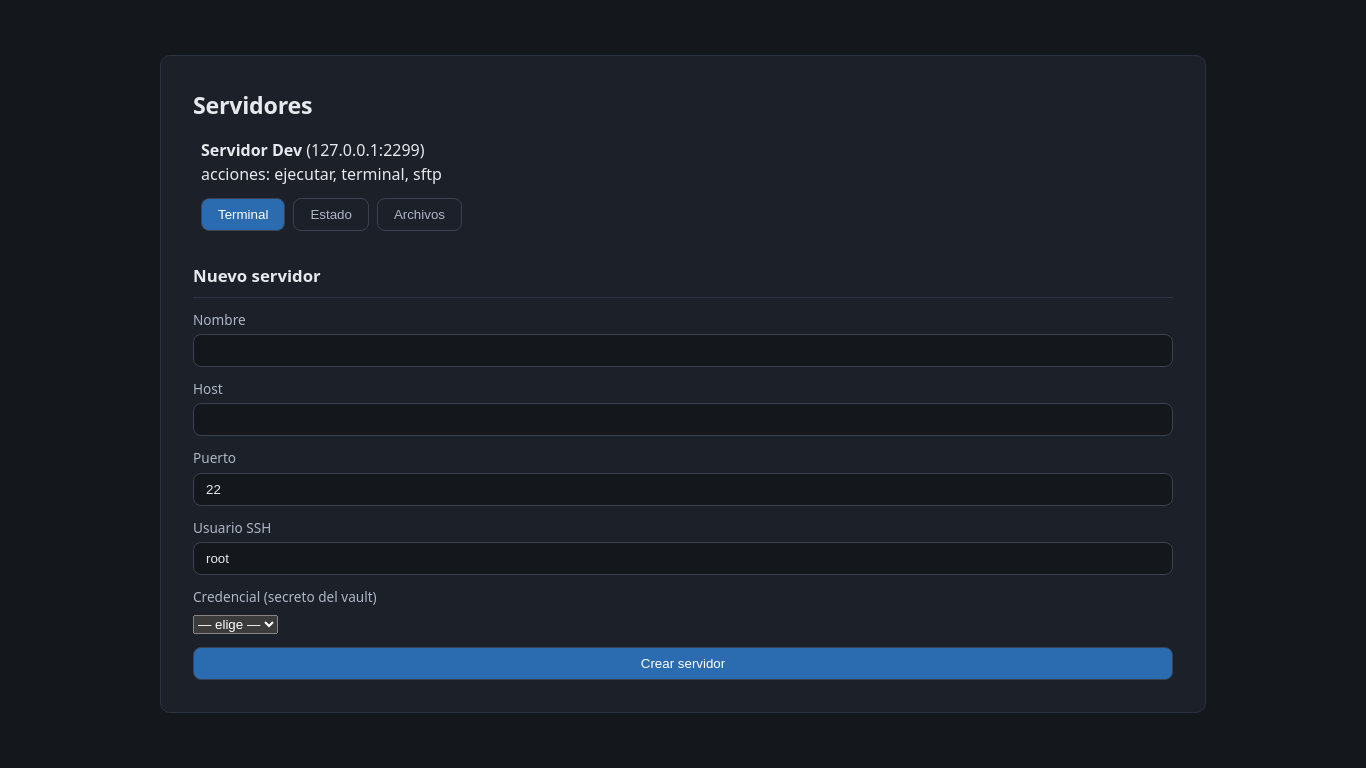
Test: VistaServidores (F4-6) › admin: crea un servidor con credencial del vault
Expected: the text "Servidor Dev" is shown, [201, 139, 302, 161]
Type "Nuevo" into the field labelled "Nombre" at [683, 350], box [193, 334, 1173, 367]
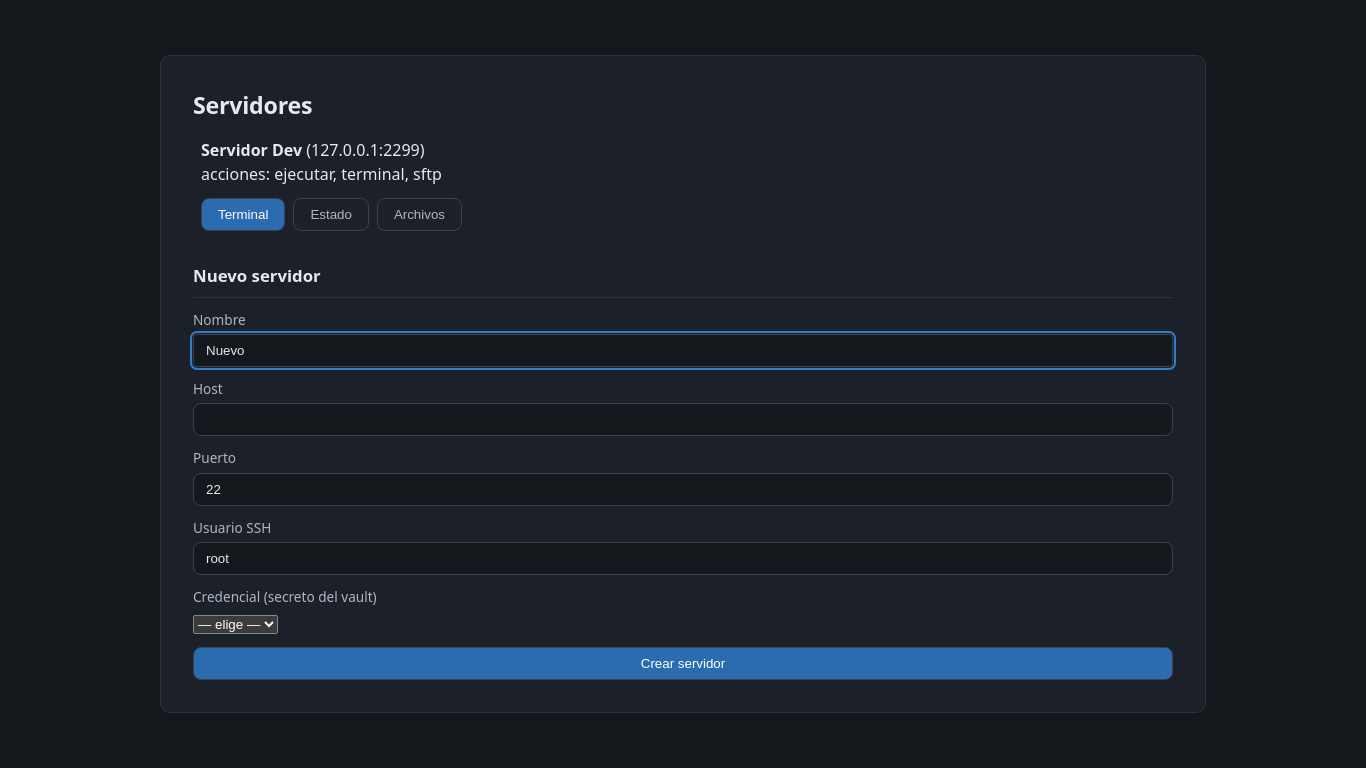
Type "10.0.0.1" into the field labelled "Host" at [683, 420], box [193, 403, 1173, 436]
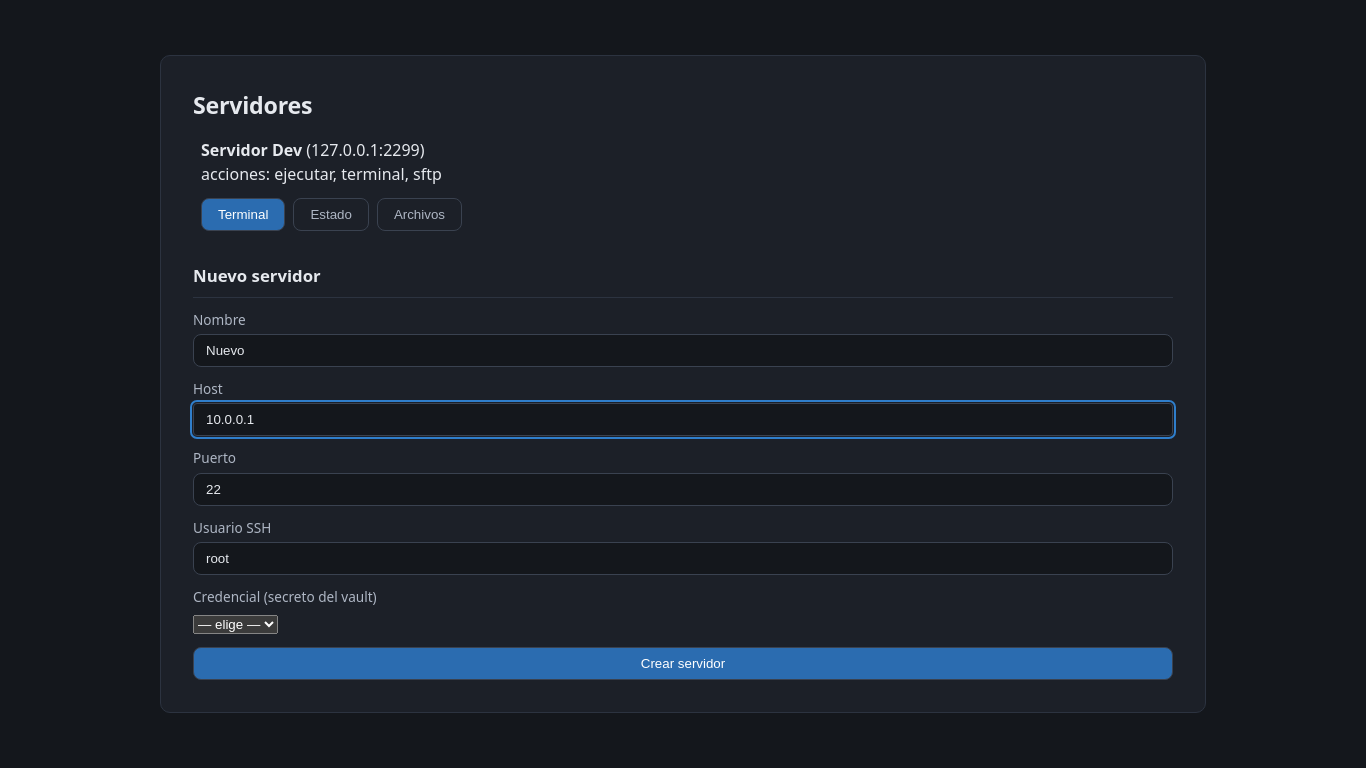
Select "ssh-clave" in the dropdown labelled "Credencial (secreto del vault)" at [236, 625], box [193, 616, 278, 634]
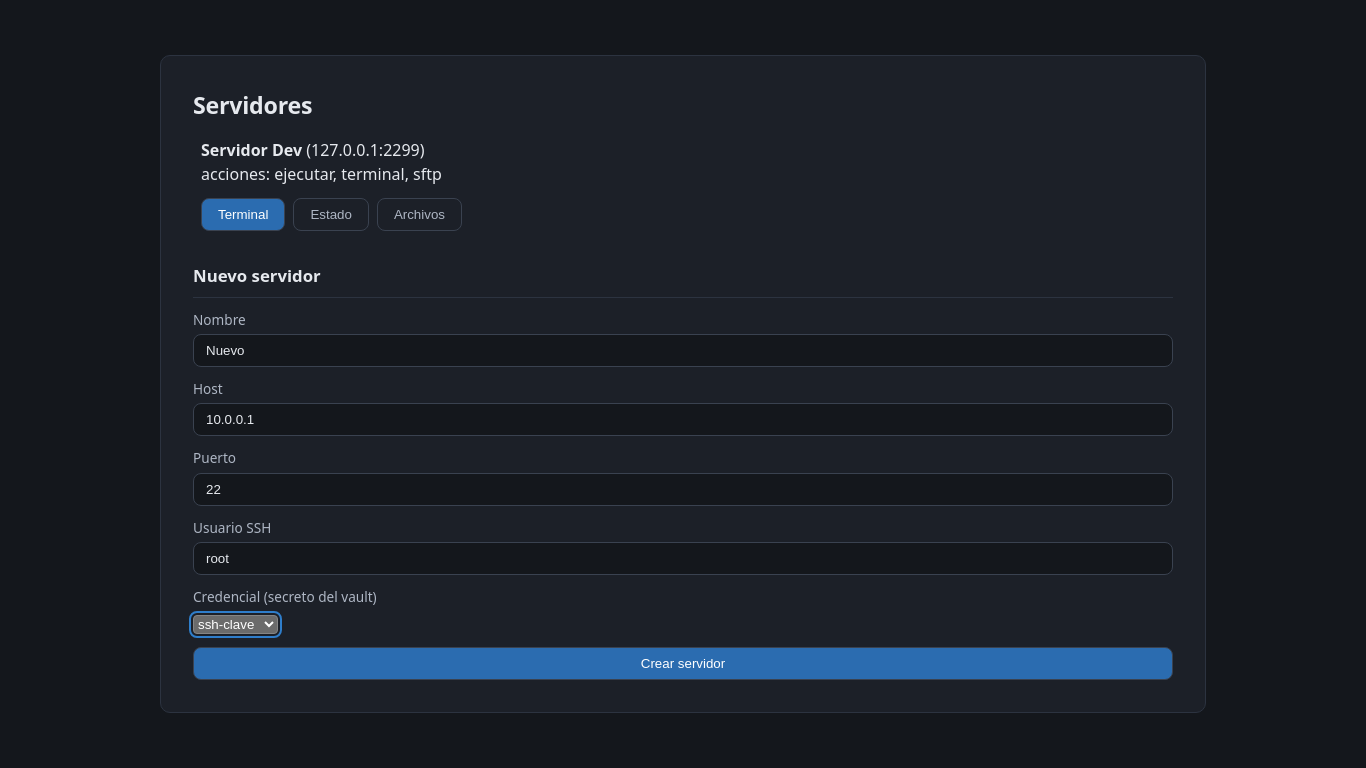
Click the button "Crear servidor" at [683, 664], box [193, 648, 1173, 680]
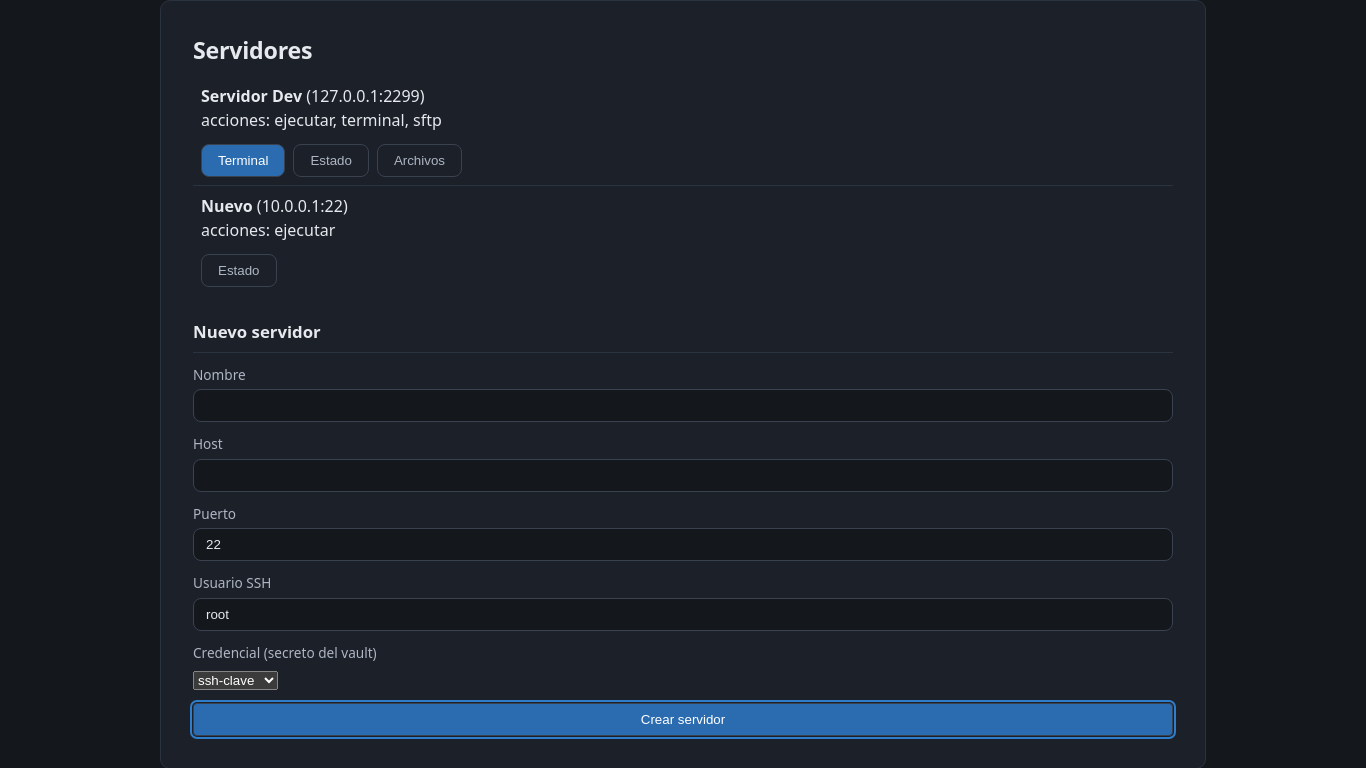
Result: the text "Nuevo" is shown at [201, 195, 253, 217]
